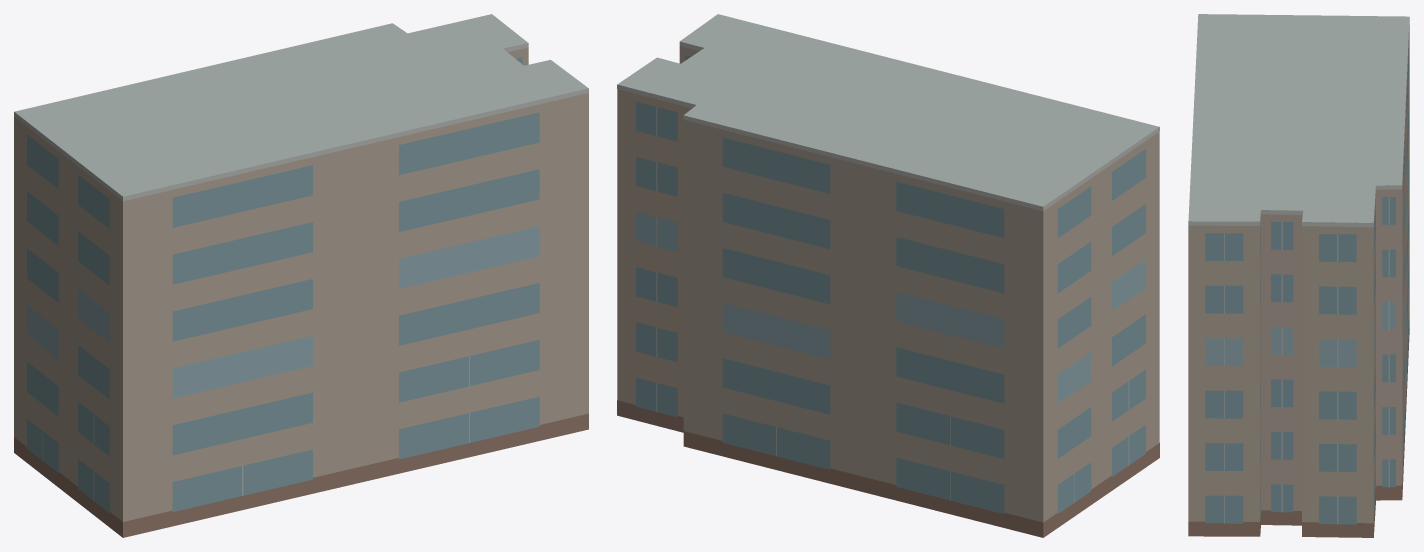
Rendered from survey-upis-32833007.glb.
The picture shows the model from 3 angles, left to right: view 1: azimuth 30°, elevation 25°; view 2: azimuth 150°, elevation 25°; view 3: azimuth 270°, elevation 25°; orthographic projection. The views are drawn at different scales.
Visible parts, largest first — view 1: survey-upis-32833007.tmp; view 2: survey-upis-32833007.tmp; view 3: survey-upis-32833007.tmp.
Boxes of the visible parts, x1,y1,x2,y2 form: survey-upis-32833007.tmp: [14, 14, 588, 537]; survey-upis-32833007.tmp: [617, 14, 1159, 537]; survey-upis-32833007.tmp: [1188, 14, 1409, 537].
Bounding box in the file's own units: 25.96 × 18.23 × 11.61.
